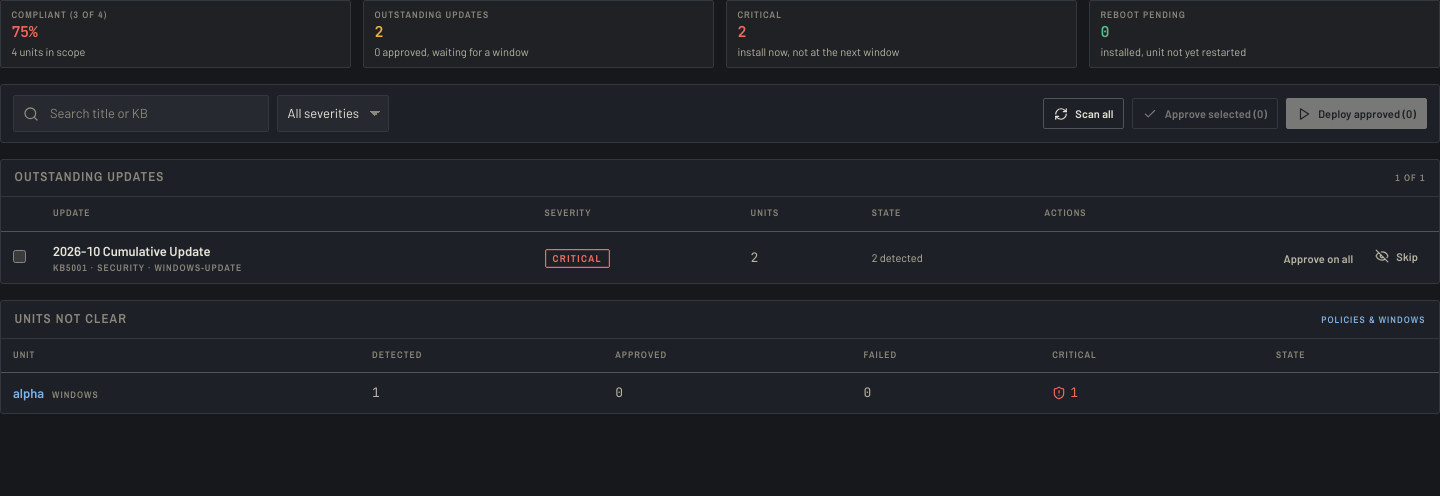
Test: FleetPatches › filters by search
The width and height of the screenshot is (1440, 496).
Expected: the text "2026-10 Cumulative Update" is shown, [53,243,211,259]
Type "nomatch" into the field named "Search updates" at (141, 114), box [13,95,269,132]
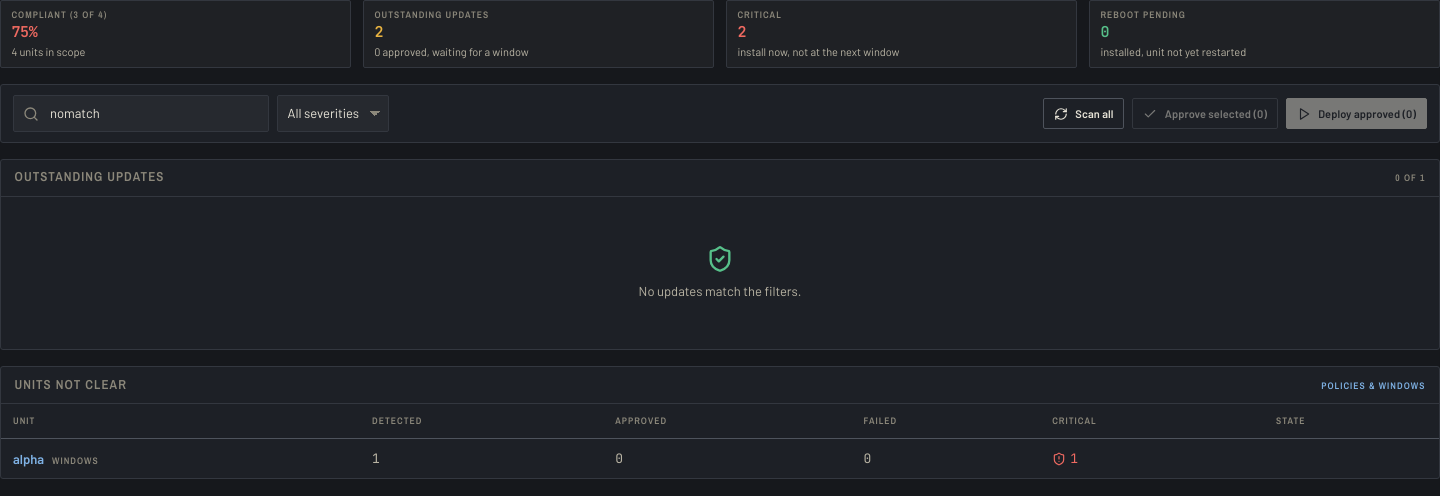
Result: the text "No updates match the filters." is shown at [639,281,801,301]
